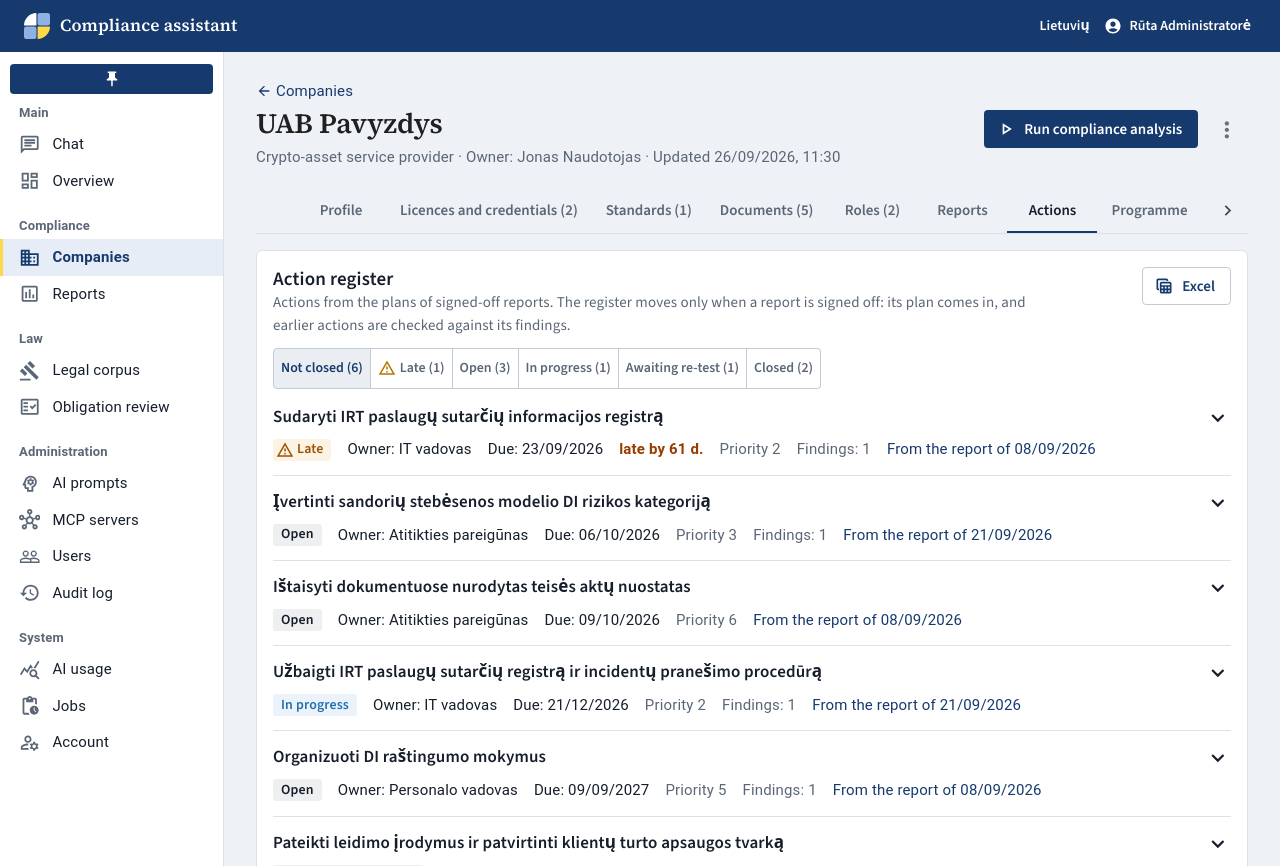
Test: CompanyActions — an opened row › a finding whose obligation was replaced says no report can confirm it, and its action that only a person closes it
Expected: the heading "UAB Pavyzdys" is shown, [256,104,442,142]
What coordinates should you click on to do the following:
click the button "Organizuoti DI raštingumo mokymus"
I would click on:
 (410, 757)
Its box is [273,746,1231,771].
(page scrolled)
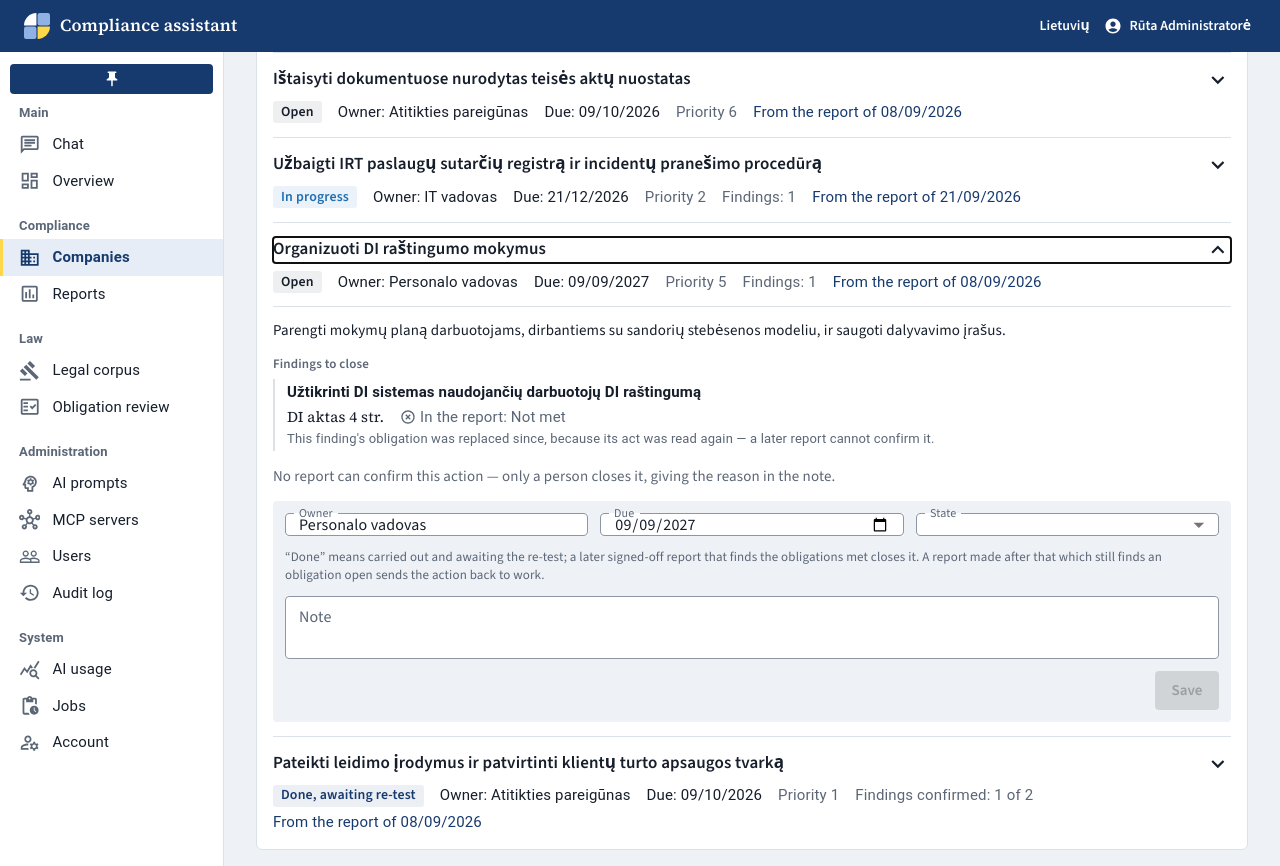
Expected: the text "This finding's obligation was replaced since, because its act was read again — a later report cannot confirm it." is shown, [287,431,934,446]
Expected: the text "No report can confirm this action — only a person closes it, giving the reason in the note." is shown, [273,466,836,486]
